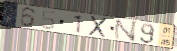1: (73, 15, 85, 34)
5: (40, 9, 57, 31)
6: (20, 6, 37, 28)
9: (138, 23, 156, 45)
N: (113, 19, 140, 44)
X: (88, 15, 110, 39)
